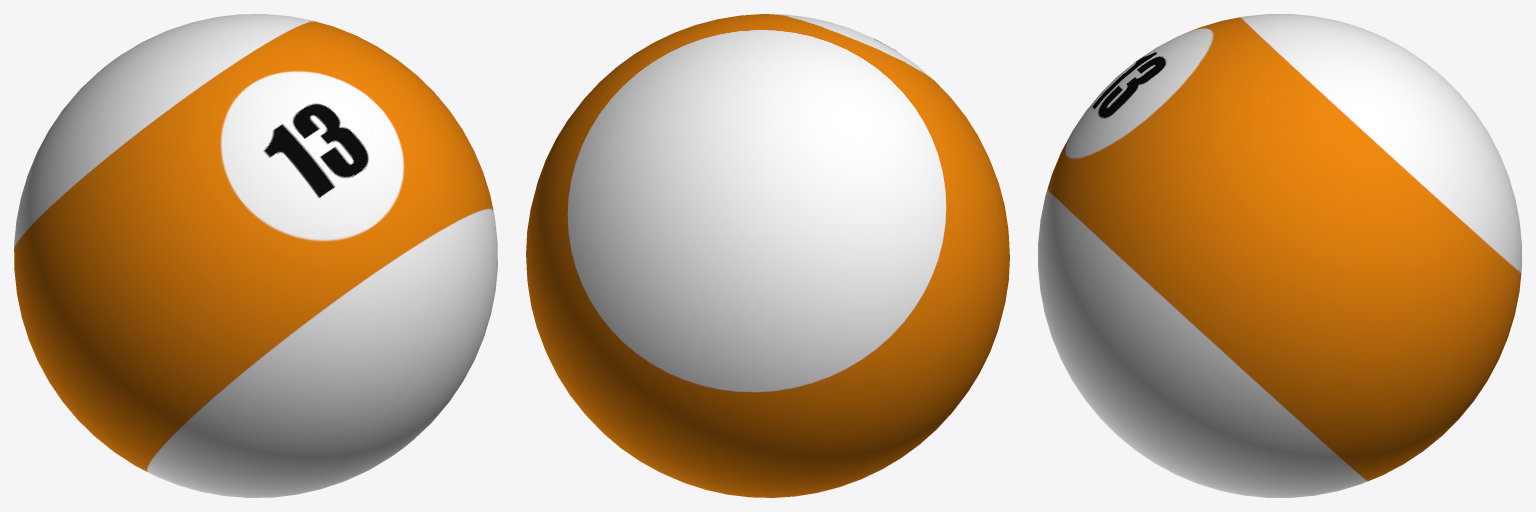
The model's file is 1ball.obj.
3 renders of one model, left to right at view 1: azimuth 30°, elevation 25°; view 2: azimuth 150°, elevation 25°; view 3: azimuth 270°, elevation 25°, orthographic.
Parts seen in each view (by area): view 1: 13_메쉬.006; view 2: 13_메쉬.006; view 3: 13_메쉬.006.
Boxes of the visible parts, x1,y1,x2,y2 form: 13_메쉬.006: (14,14,497,497); 13_메쉬.006: (526,14,1009,497); 13_메쉬.006: (1038,14,1521,497).
Bounding box in the file's own units: 0.4188 × 0.4184 × 0.4185.
1 material, 1 textured.
